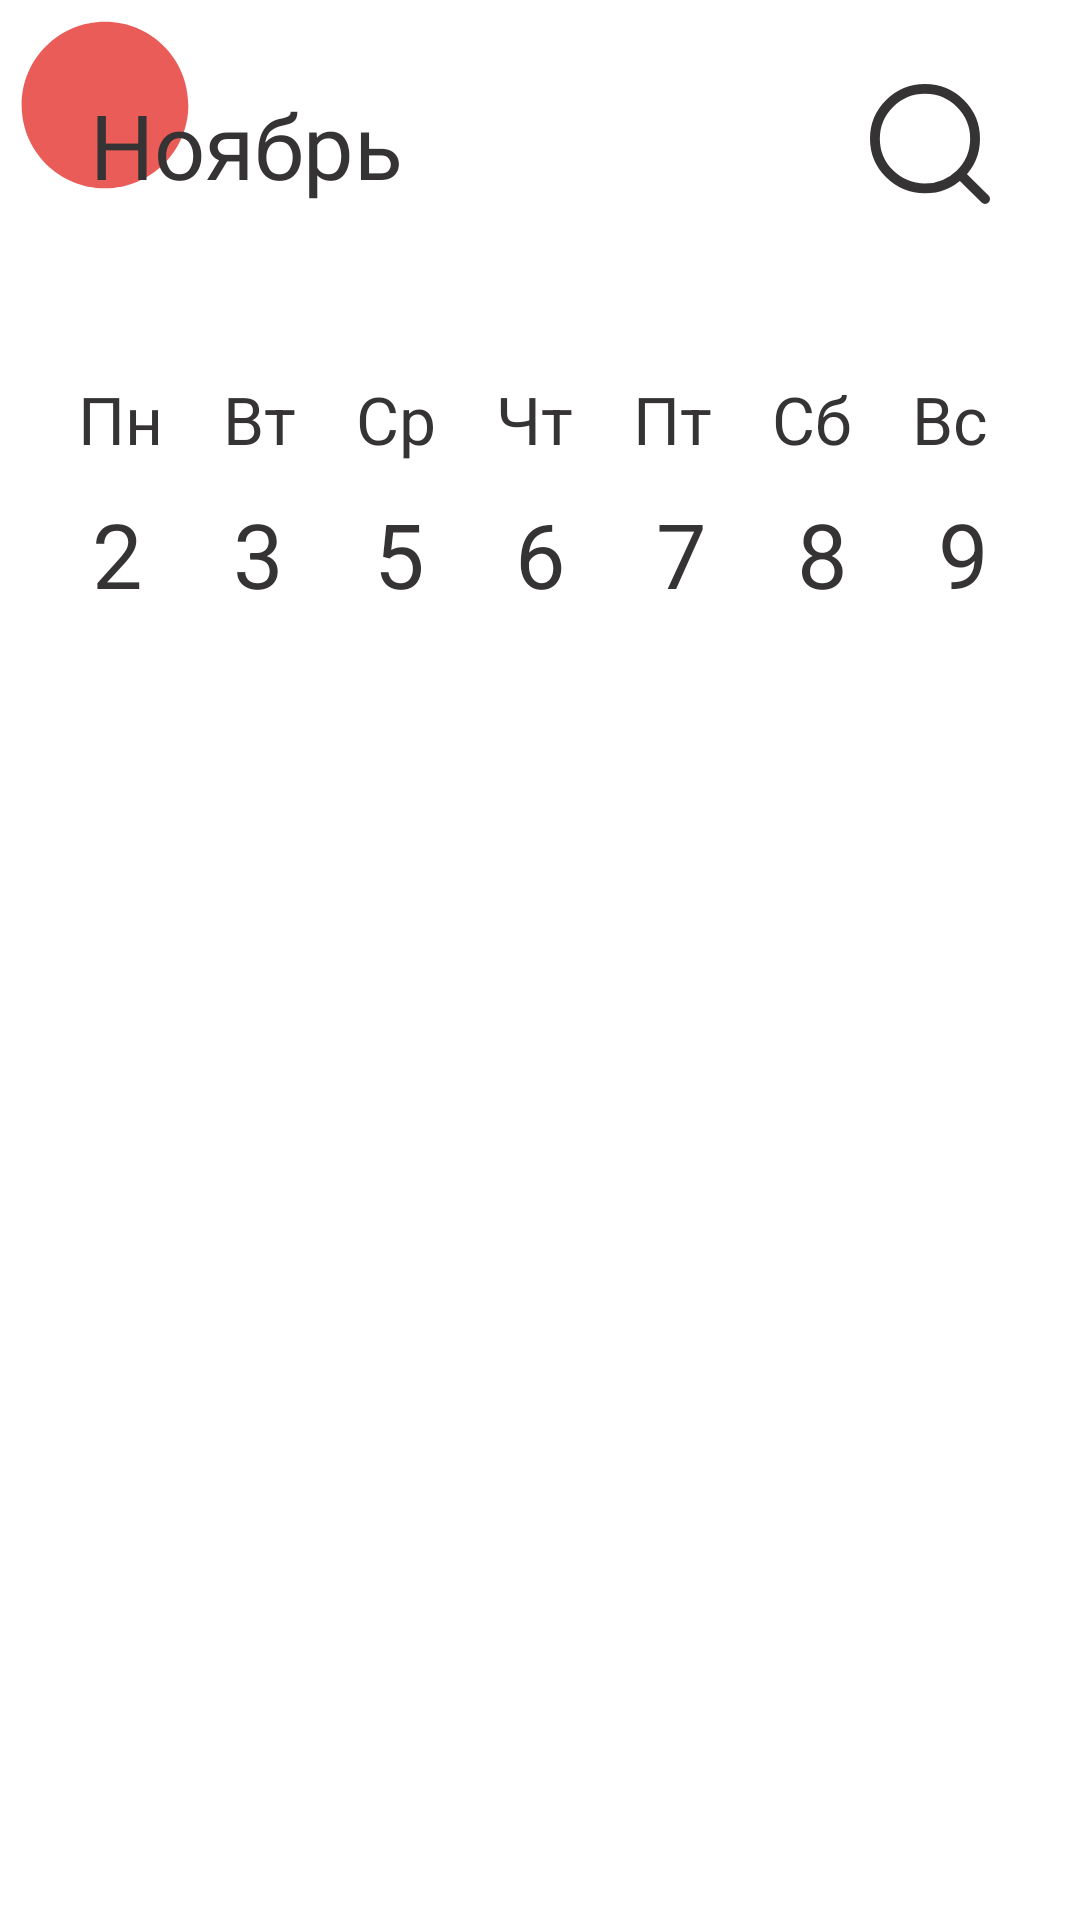

Where icons sit on this 1080 x 1920 app screen, as BBox(x1, y1, x2, y2):
poiskup: BBox(870, 84, 990, 204)
